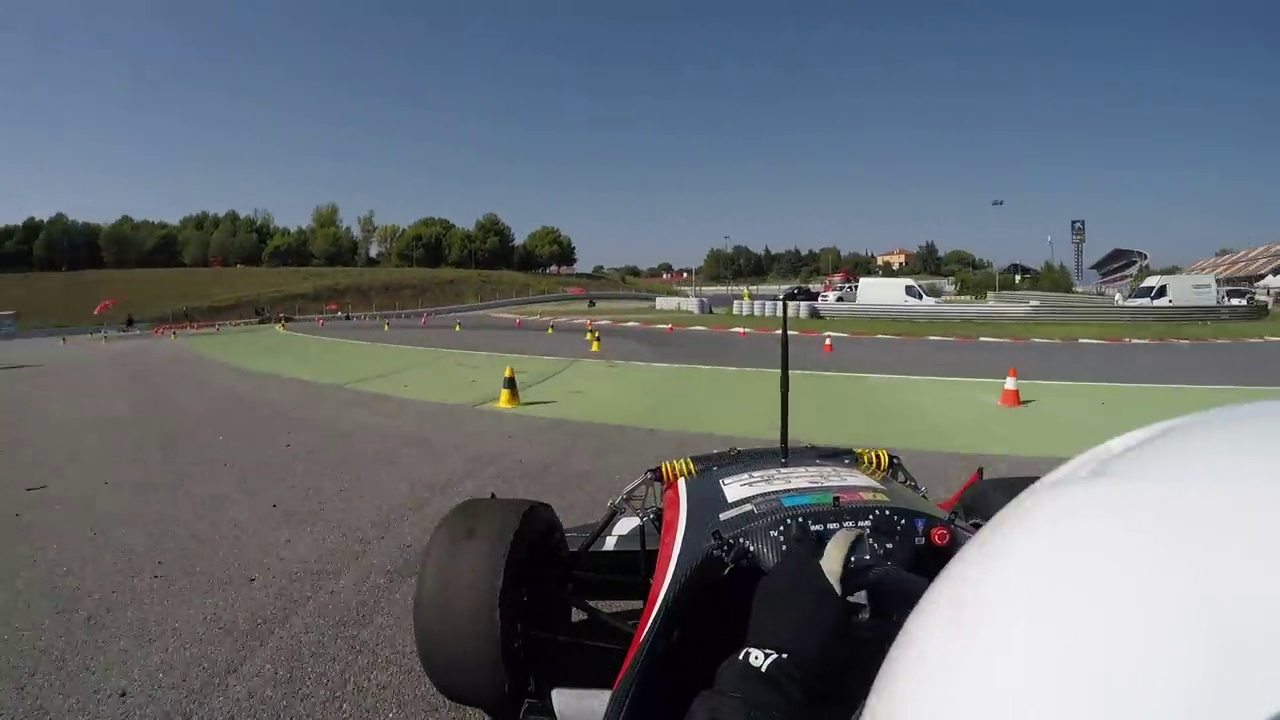Cone: (493, 361, 527, 409), (997, 363, 1025, 409)
